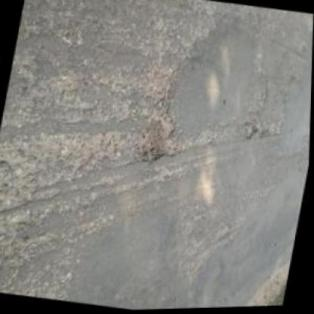Hueco: (134, 106, 181, 168), (239, 121, 260, 142)
